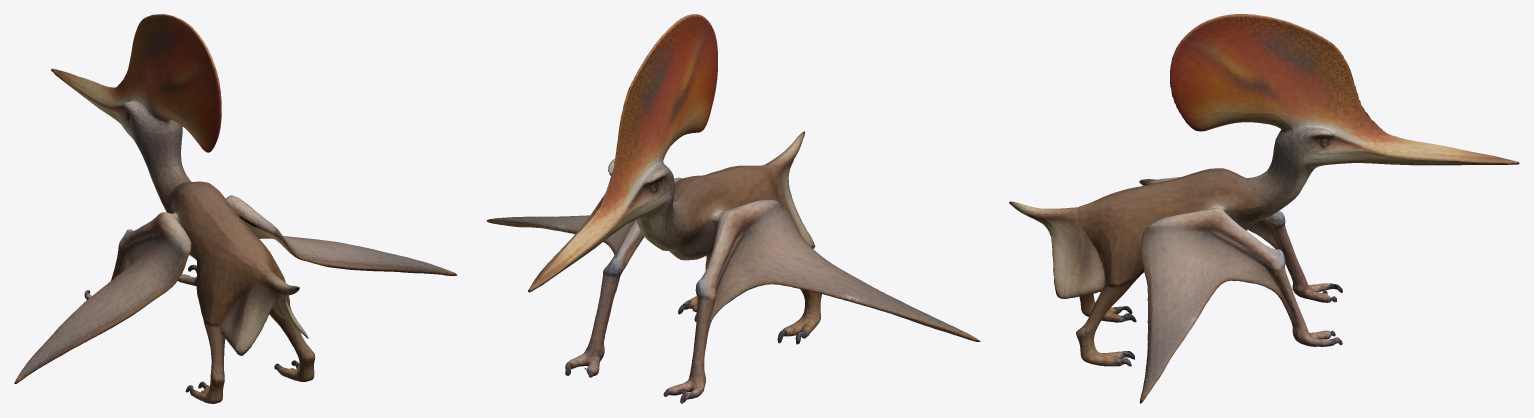
The picture shows the model from 3 angles, left to right: view 1: azimuth 30°, elevation 25°; view 2: azimuth 150°, elevation 25°; view 3: azimuth 270°, elevation 25°; orthographic projection. The views are drawn at different scales.
Parts seen in each view (by area): view 1: world; view 2: world; view 3: world.
Part boxes in pixels (x1=…): world: x1=14, y1=14, x2=457, y2=403; world: x1=486, y1=14, x2=980, y2=403; world: x1=1009, y1=14, x2=1519, y2=403.
Size of the model in its own units: 0.9946 by 0.6813 by 0.9621.
1 material, 1 textured.
